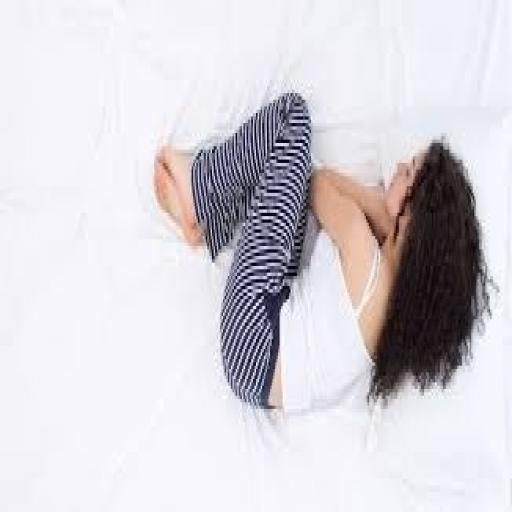sleeping: (150, 83, 500, 422)
